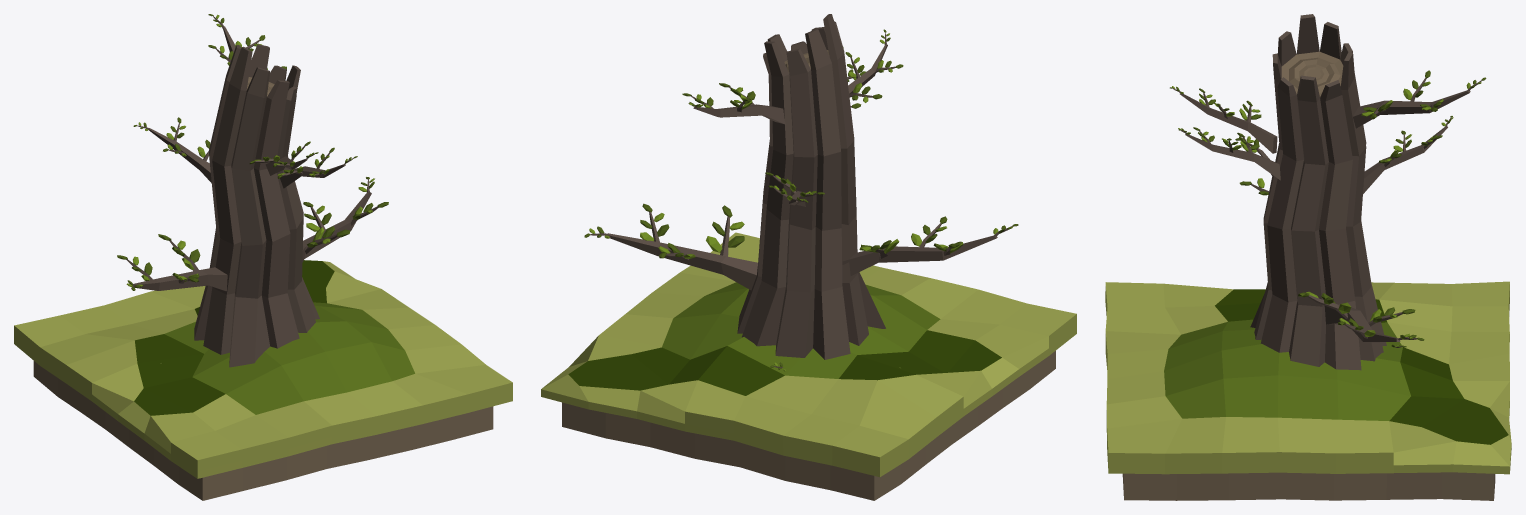
The model's file is Tree Trunk.glb.
3 views of the same model, side by side, from view 1: azimuth 30°, elevation 25°; view 2: azimuth 150°, elevation 25°; view 3: azimuth 270°, elevation 25° (orthographic). The views are drawn at different scales.
Visible parts, largest first — view 1: Cylinder, Cube_Cube.001_4, Cube_Cube.001_6, Cube_Cube.001_3; view 2: Cylinder, Cube_Cube.001_6, Cube_Cube.001_4, Cube_Cube.001_5, Cube.001_Cube.002_28; view 3: Cylinder, Cube_Cube.001_5, Cube_Cube.001_1, Cube_Cube.001_6, Cube_Cube.001_2, Cube_Cube.001_3, Cube.001_Cube.002_28.
Boxes of the visible parts, x1,y1,x2,y2 form: Cylinder: (14, 44, 512, 500); Cube_Cube.001_4: (133, 267, 227, 291); Cube_Cube.001_6: (302, 191, 371, 261); Cube_Cube.001_3: (149, 128, 211, 182); Cylinder: (541, 14, 1076, 500); Cube_Cube.001_6: (608, 233, 757, 290); Cube_Cube.001_4: (842, 235, 997, 275); Cube_Cube.001_5: (693, 104, 785, 124); Cube.001_Cube.002_28: (706, 205, 744, 256); Cylinder: (1105, 14, 1511, 500); Cube_Cube.001_5: (1353, 90, 1470, 128); Cube_Cube.001_1: (1180, 93, 1277, 153); Cube_Cube.001_6: (1324, 306, 1400, 342); Cube_Cube.001_2: (1185, 134, 1280, 180); Cube_Cube.001_3: (1363, 126, 1447, 193); Cube.001_Cube.002_28: (1298, 291, 1351, 318).
Bounding box in the file's own units: 4.08 × 4.37 × 4.03.
